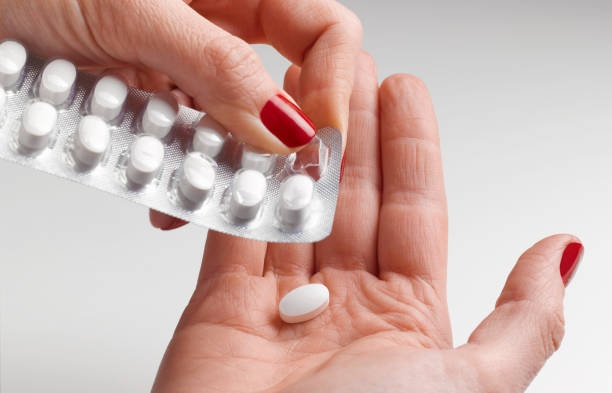pills: (279, 283, 333, 318)
